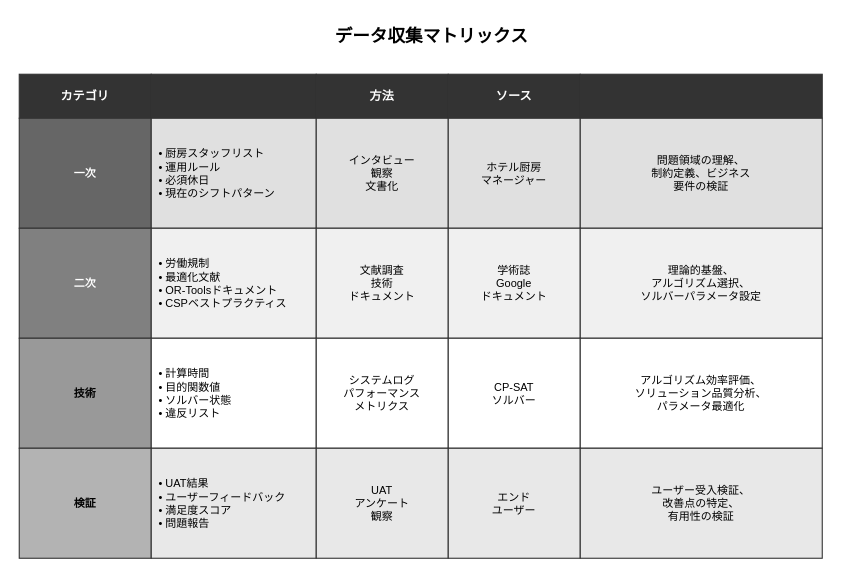
Some shapes in this 842 by 578 pixel diagram are drawn without their labels. The box of each missing label's shape, as (x1, y1, x2, y2) in pixels:
データタイプ: (150, 73, 316, 118)
目的: (579, 73, 822, 118)
